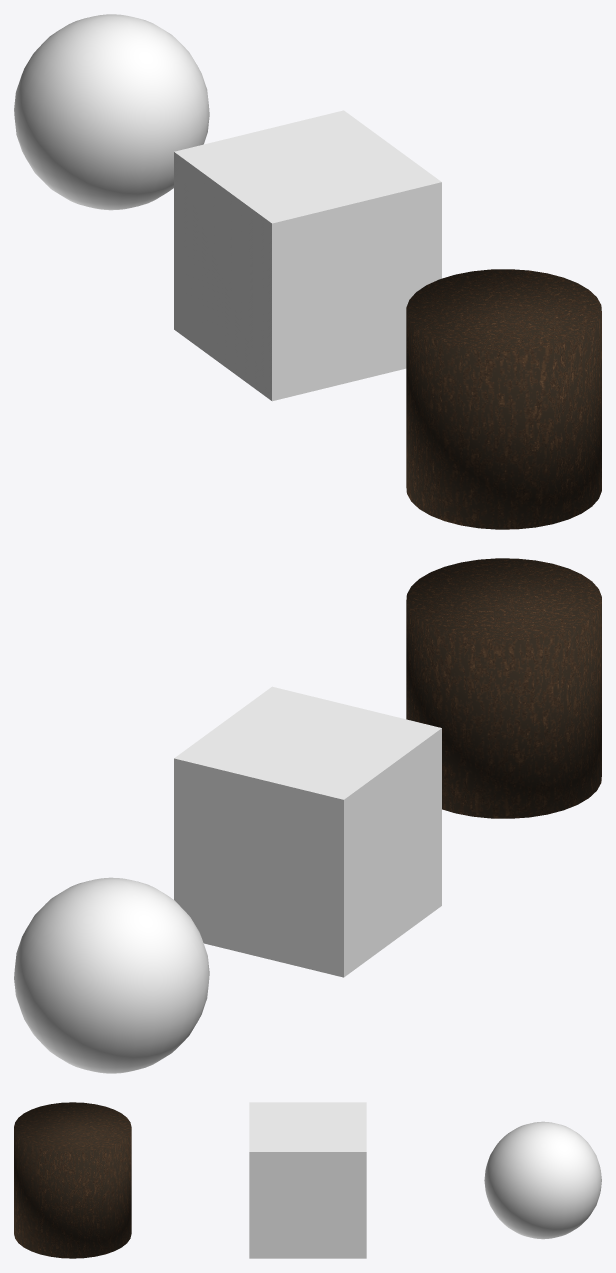
Rendered from TreeBark.gltf.
3 renders of one model, top to bottom at view 1: azimuth 30°, elevation 25°; view 2: azimuth 150°, elevation 25°; view 3: azimuth 270°, elevation 25°, orthographic. The views are drawn at different scales.
Visible parts, largest first — view 1: Cube.001, Cylinder.001, Sphere.001; view 2: Cube.001, Cylinder.001, Sphere.001; view 3: Cube.001, Cylinder.001, Sphere.001.
Boxes of the visible parts, box(x1,y1,x2,y2) form: Cube.001: box(174, 110, 441, 401); Cylinder.001: box(406, 269, 601, 529); Sphere.001: box(14, 14, 209, 210); Cube.001: box(174, 686, 441, 977); Cylinder.001: box(406, 558, 601, 818); Sphere.001: box(14, 877, 209, 1073); Cube.001: box(249, 1102, 366, 1258); Cylinder.001: box(14, 1102, 131, 1258); Sphere.001: box(484, 1121, 601, 1239).
Size of the model in its own units: 2 by 2 by 10.
3 materials, 1 textured.
